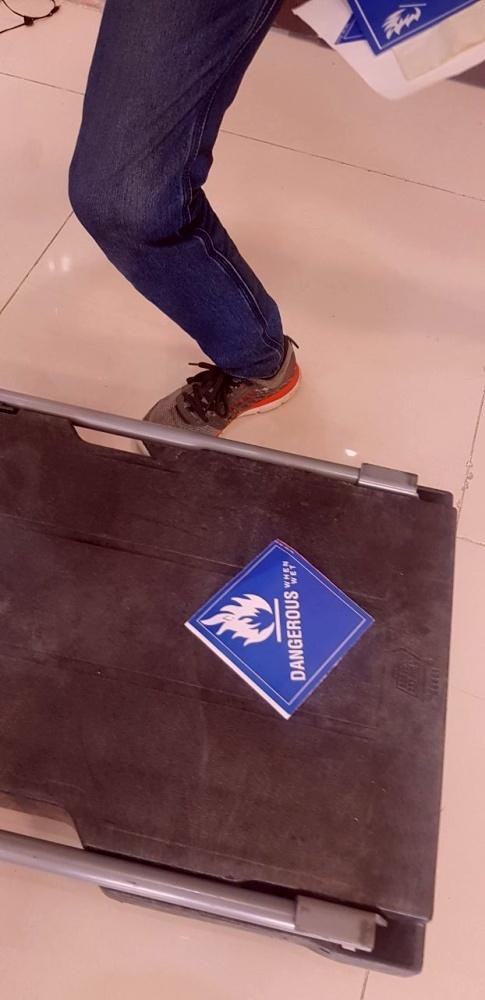dangerous-when-wet: (188, 542, 372, 720)
